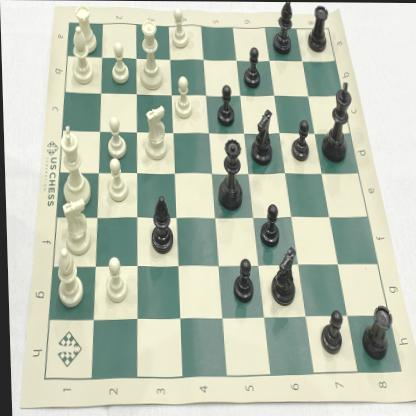black-bishop: (147, 195, 173, 257), (271, 2, 295, 56)
black-king: (319, 77, 354, 165)
black-knight: (268, 243, 297, 308), (249, 106, 274, 167)
black-pawn: (317, 305, 343, 356), (229, 256, 254, 304), (213, 82, 237, 129), (289, 118, 312, 165), (239, 44, 263, 89), (257, 202, 280, 247)
black-queen: (215, 136, 242, 213)
black-rook: (358, 301, 393, 360), (306, 2, 331, 55)
white-bishop: (53, 245, 84, 308), (68, 25, 95, 86)
white-king: (57, 123, 91, 208)
white-knight: (59, 197, 92, 256), (141, 105, 168, 163)
white-pawn: (102, 157, 130, 204), (107, 41, 132, 89), (103, 256, 127, 305), (104, 113, 127, 161), (168, 5, 191, 51), (173, 74, 196, 120)
white-queen: (136, 15, 165, 93)
white-rook: (74, 3, 98, 55)
